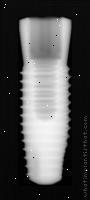3M ESPE: (18, 17, 72, 186)
